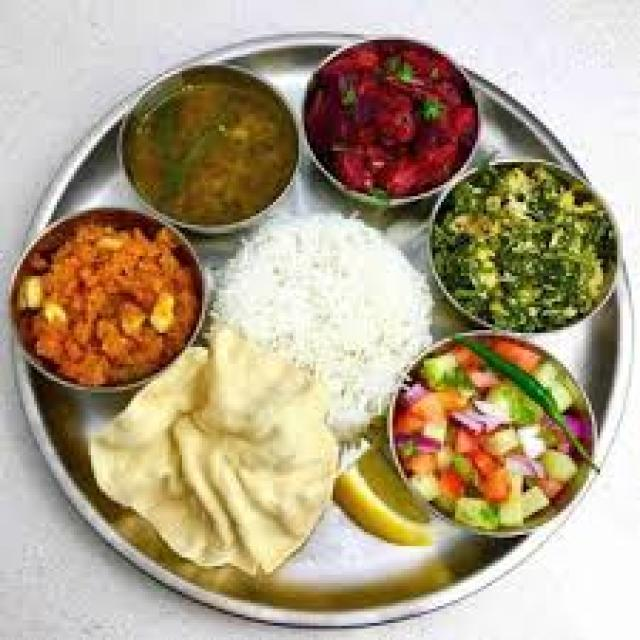dal: (116, 63, 299, 223)
papad: (212, 216, 438, 381)
rice: (211, 216, 435, 374)
sambar-rasam: (300, 41, 480, 202)
veg-fry: (5, 209, 218, 396)
